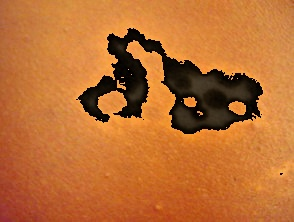vitiligo: (47, 18, 280, 153)
